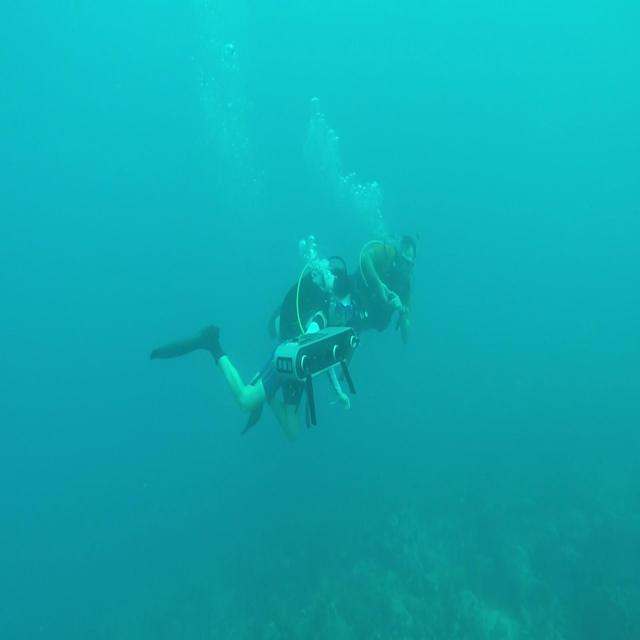human: (149, 230, 417, 441)
